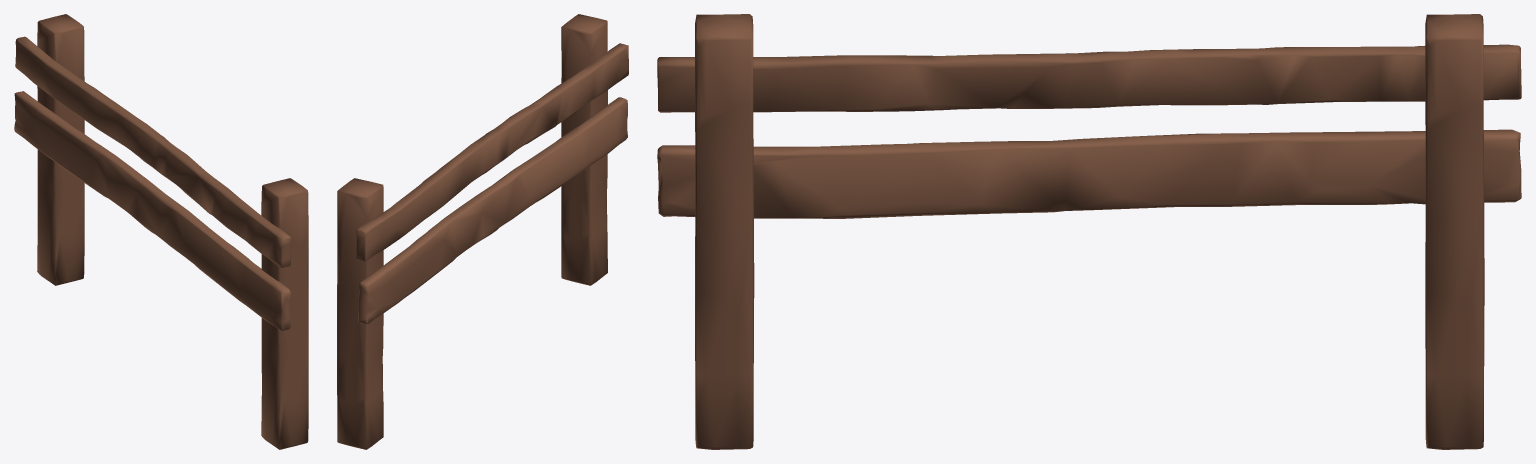
The model's file is fence.glb.
3 views of the same model, side by side, from view 1: azimuth 30°, elevation 25°; view 2: azimuth 150°, elevation 25°; view 3: azimuth 270°, elevation 25° (orthographic). The views are drawn at different scales.
Parts seen in each view (by area): view 1: FenceBoard2Lp, FenceboardLp, postLp, postLp.001; view 2: FenceBoard2Lp, FenceboardLp, postLp.001, postLp; view 3: FenceBoard2Lp, FenceboardLp, postLp.001, postLp.
Boxes of the visible parts, x1,y1,x2,y2 form: FenceBoard2Lp: (14,91,290,331); FenceboardLp: (15,36,290,268); postLp: (261,178,308,449); postLp.001: (37,14,84,285); FenceBoard2Lp: (358,97,627,324); FenceboardLp: (356,43,628,261); postLp.001: (337,178,383,449); postLp: (561,14,607,285); FenceBoard2Lp: (657,129,1521,218); FenceboardLp: (657,44,1521,112); postLp.001: (1425,14,1484,449); postLp: (695,14,754,449).
Size of the model in its own units: 0.405 by 2.28 by 4.33.
